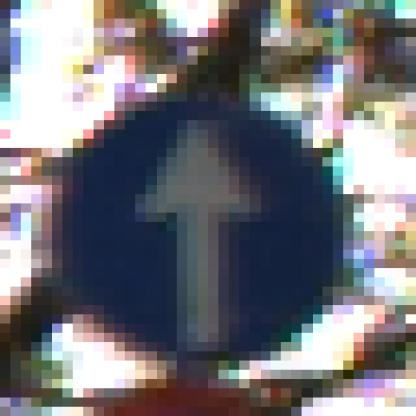AheadOnly: (53, 47, 365, 371)
